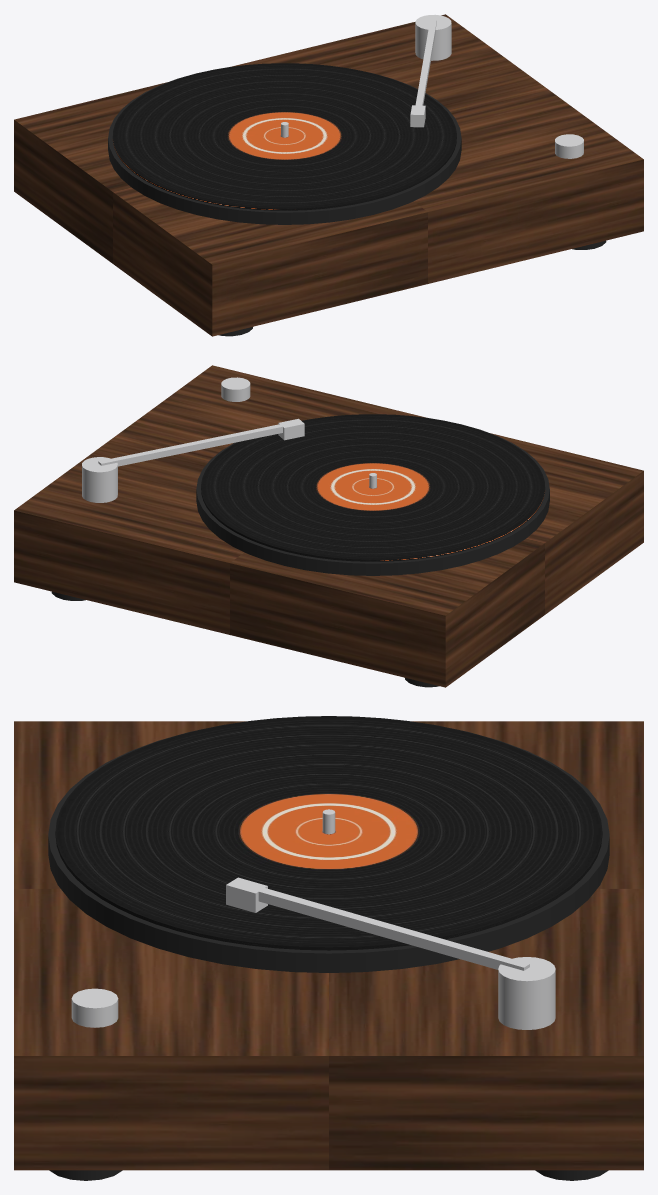
File: obj-turntable-walnut.glb
3 views of the same model, one above another, from view 1: azimuth 30°, elevation 25°; view 2: azimuth 150°, elevation 25°; view 3: azimuth 270°, elevation 25° (orthographic). The views are drawn at different scales.
Visible parts, largest first — view 1: obj-turntable-walnut; view 2: obj-turntable-walnut; view 3: obj-turntable-walnut.
Boxes of the visible parts, bbox=[...] form: obj-turntable-walnut: bbox=[14, 14, 643, 336]; obj-turntable-walnut: bbox=[14, 365, 643, 687]; obj-turntable-walnut: bbox=[14, 716, 643, 1180].
Size of the model in its own units: 0.44 by 0.117 by 0.35.
4 materials, 2 textured.
